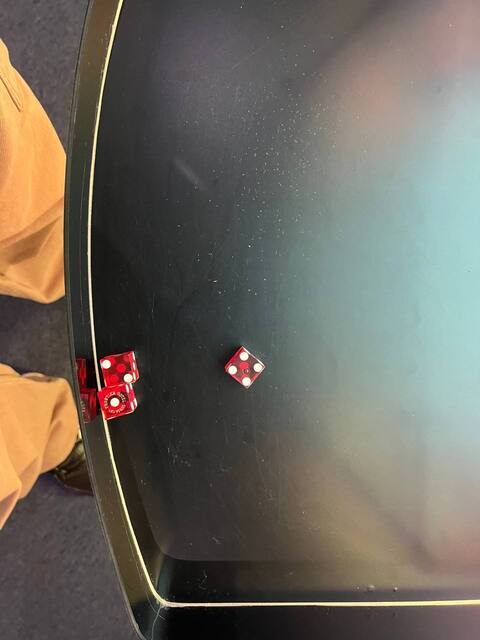four: (222, 344, 268, 392)
one: (96, 386, 128, 423)
two: (98, 351, 139, 388)
